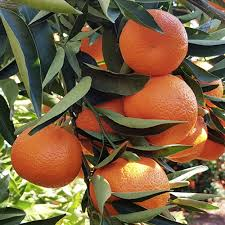orange: (122, 78, 199, 145), (89, 157, 172, 216), (115, 12, 191, 76), (7, 127, 84, 189), (76, 90, 129, 148)
